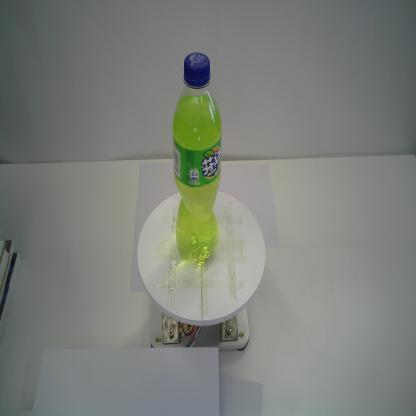Drink: (170, 49, 224, 268)
